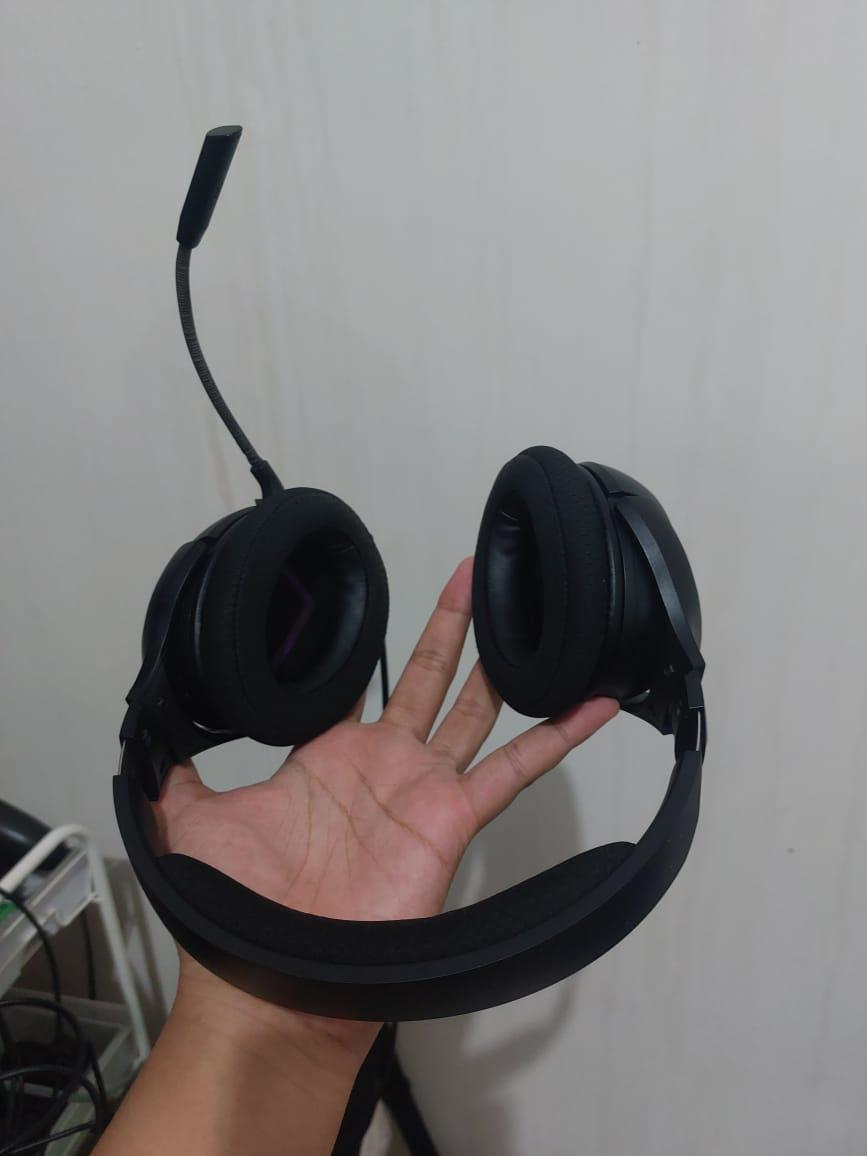Headset: (105, 116, 723, 1031)
